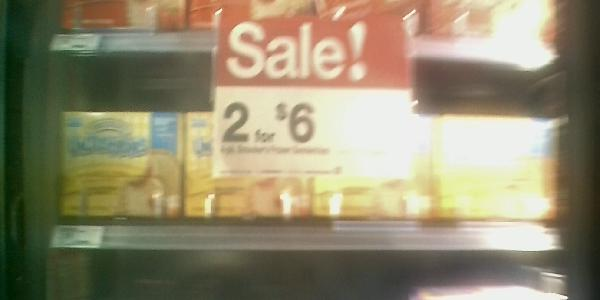icecream: (58, 107, 186, 225), (299, 114, 438, 222), (183, 107, 313, 218), (434, 119, 563, 227)
